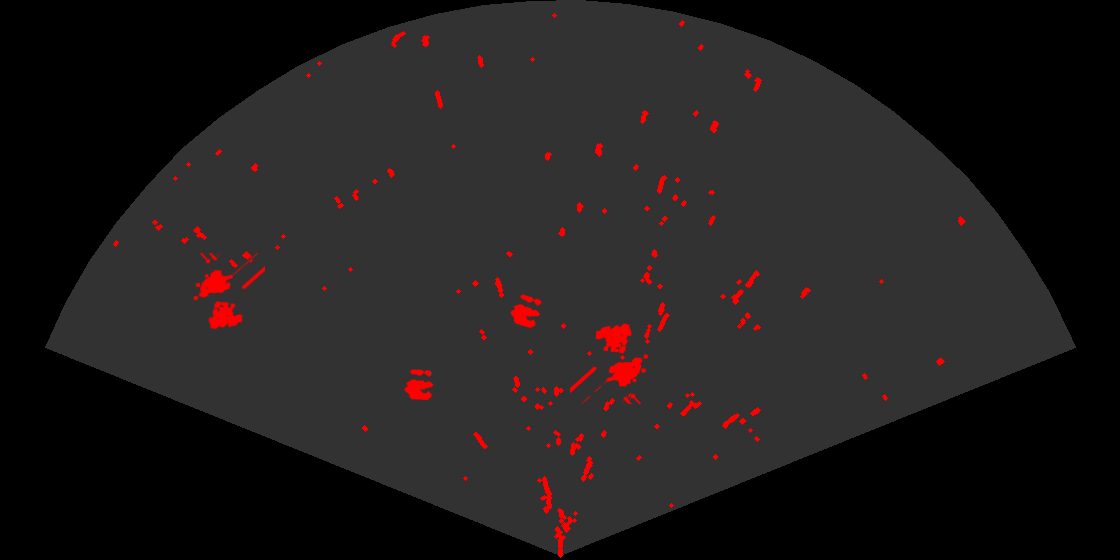ball: (509, 293, 543, 330), (403, 368, 435, 402)
cage: (570, 322, 650, 404), (192, 253, 265, 331)
